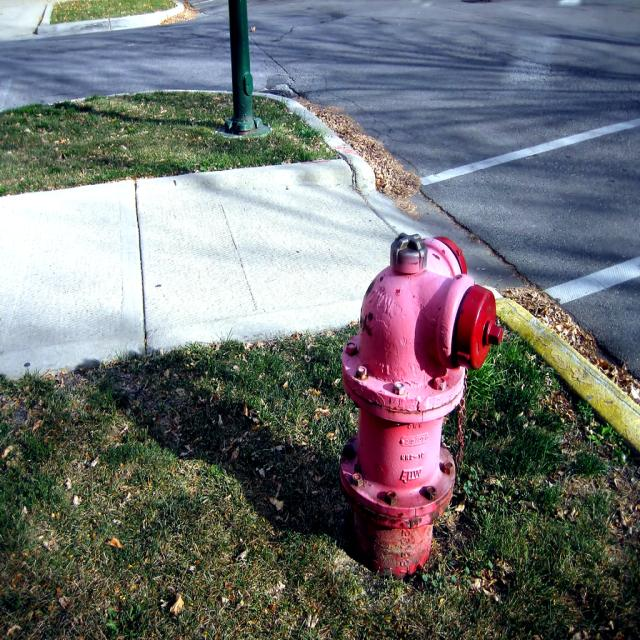fire_hydrant: (338, 232, 504, 579)
